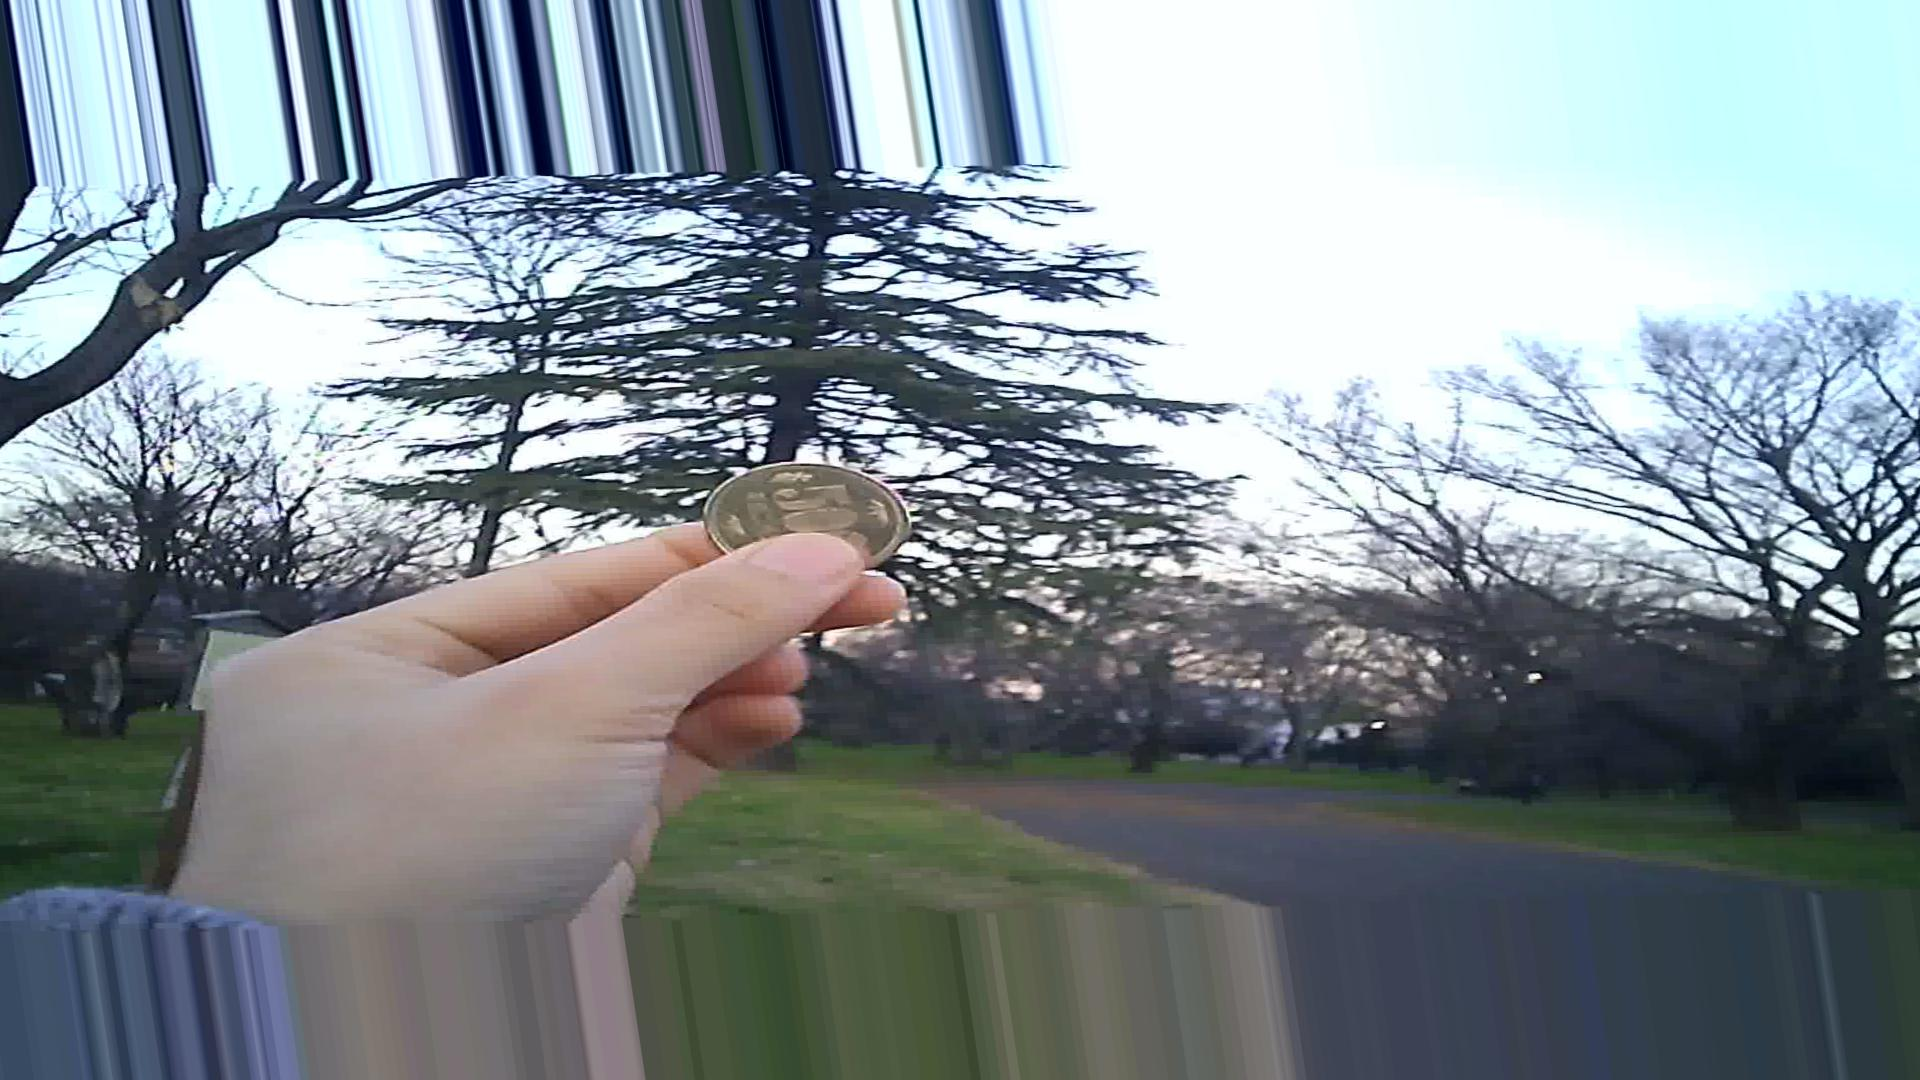500 Yen: (702, 451, 911, 575)
